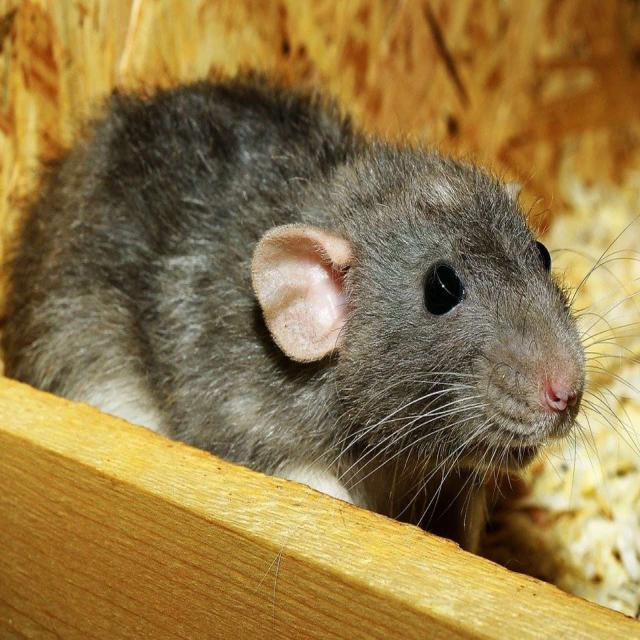rat: (13, 82, 593, 532)
